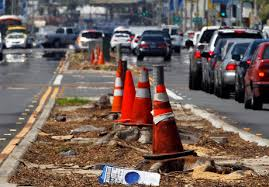car: (202, 30, 260, 88), (245, 41, 269, 107), (219, 42, 246, 95), (235, 41, 258, 98), (136, 35, 169, 61), (6, 33, 26, 49), (111, 34, 131, 49)
cone: (154, 82, 185, 161), (132, 68, 151, 124), (118, 69, 136, 123), (110, 70, 124, 115)
